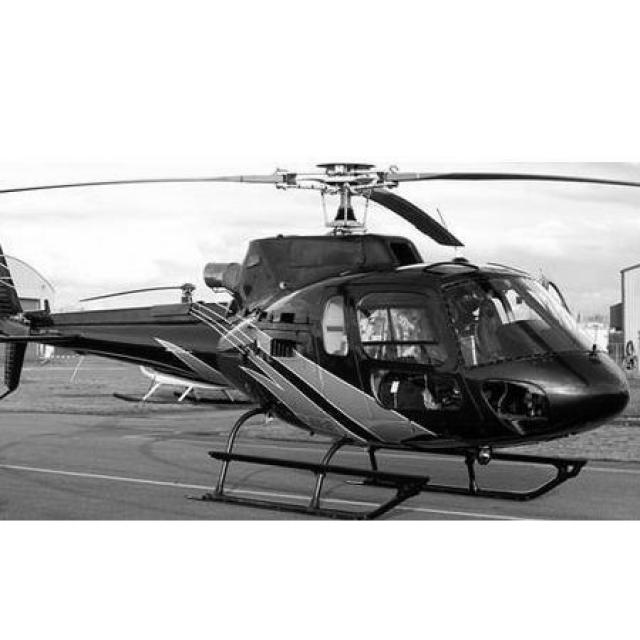helicopter: (1, 163, 635, 518)
